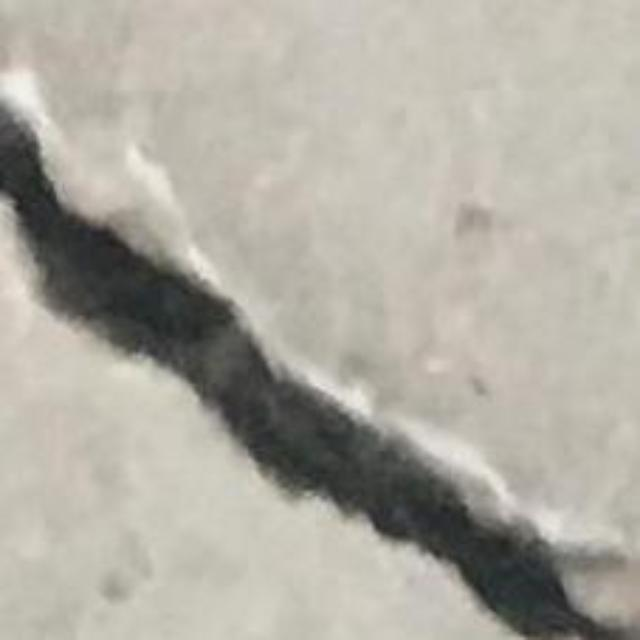crack: (0, 99, 639, 639)
